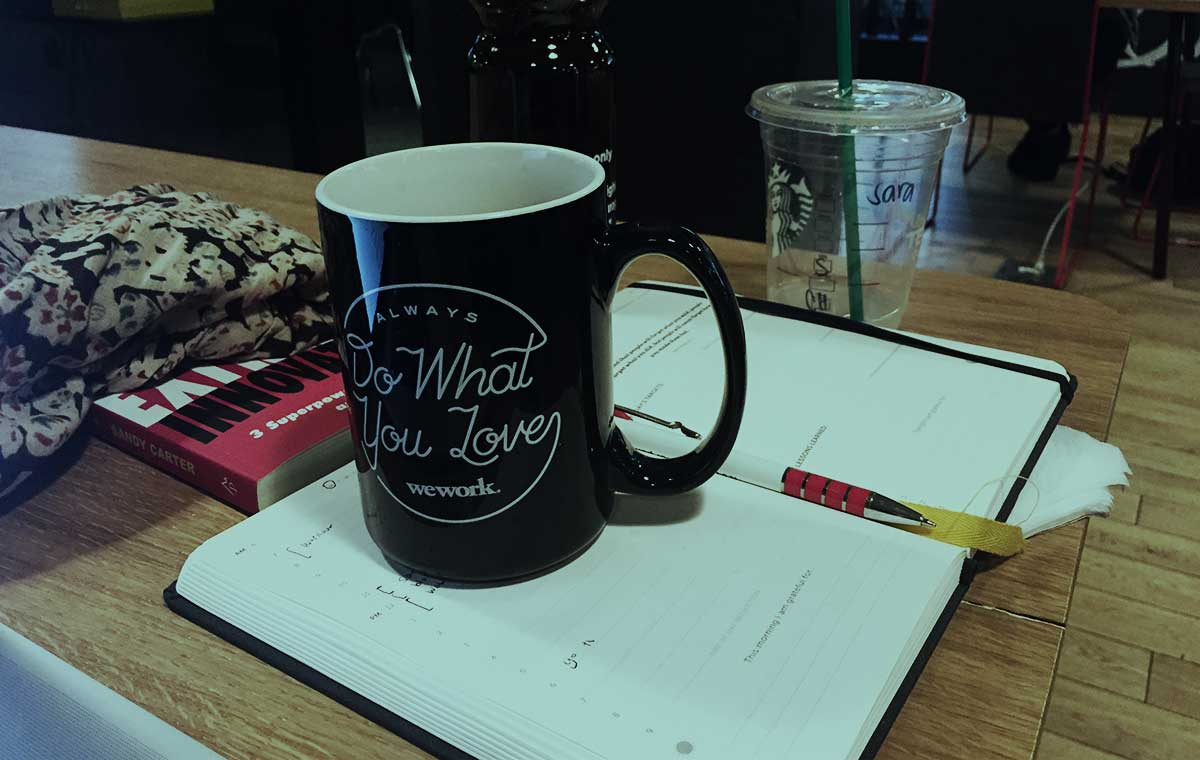wework: (406, 476, 497, 498)
